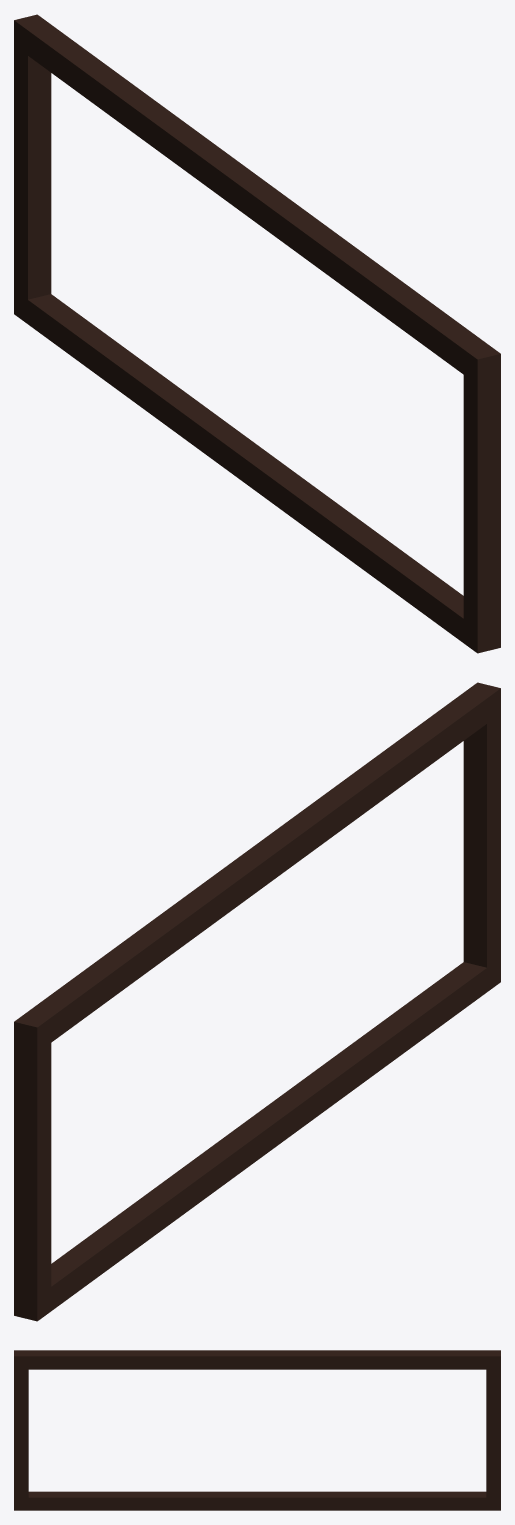
The model's file is mirrorFrame.fbx.
The picture shows the model from 3 angles, top to bottom: view 1: azimuth 30°, elevation 25°; view 2: azimuth 150°, elevation 25°; view 3: azimuth 270°, elevation 25°; orthographic projection. The views are drawn at different scales.
Parts seen in each view (by area): view 1: MirrorFrame; view 2: MirrorFrame; view 3: MirrorFrame.
Part boxes in pixels (x1=…): MirrorFrame: x1=14, y1=14, x2=500, y2=653; MirrorFrame: x1=14, y1=682, x2=500, y2=1321; MirrorFrame: x1=14, y1=1350, x2=500, y2=1510.
Size of the model in its own units: 83.32 by 998 by 2852.
